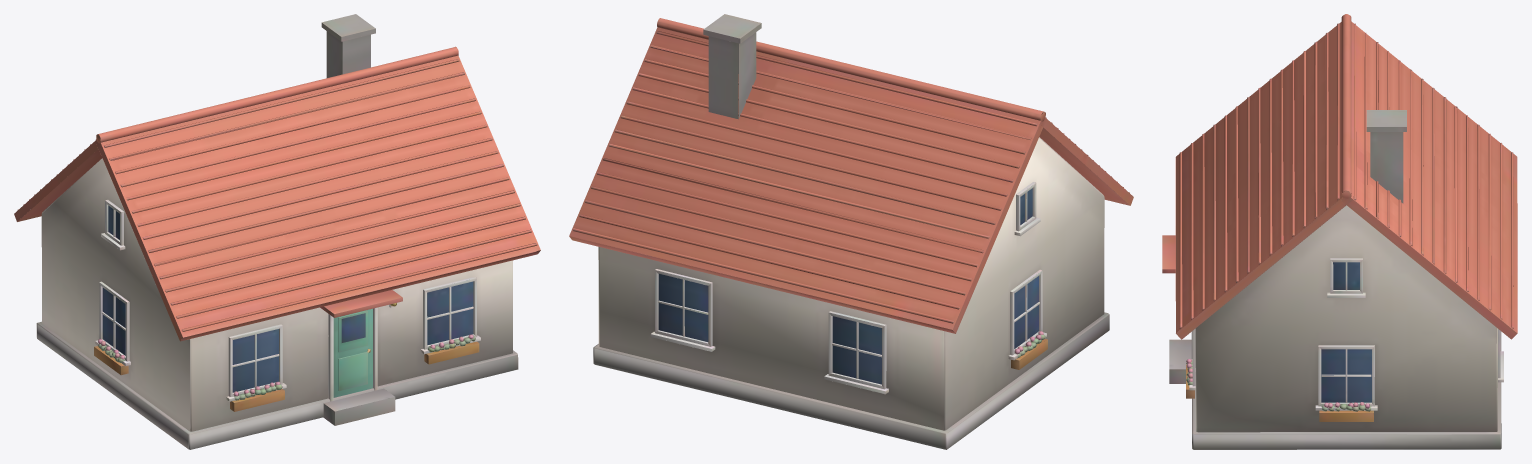
The model's file is cottage.glb.
The picture shows the model from 3 angles, left to right: view 1: azimuth 30°, elevation 25°; view 2: azimuth 150°, elevation 25°; view 3: azimuth 270°, elevation 25°; orthographic projection. The views are drawn at different scales.
Visible parts, largest first — view 1: cottage-house_body; view 2: cottage-house_body; view 3: cottage-house_body.
Boxes of the visible parts, x1=… form: cottage-house_body: x1=14, y1=14, x2=540, y2=449; cottage-house_body: x1=569, y1=14, x2=1133, y2=449; cottage-house_body: x1=1162, y1=14, x2=1517, y2=449.
Size of the model in its own units: 8.84 by 6.89 by 7.51.
1 material, 1 textured.
